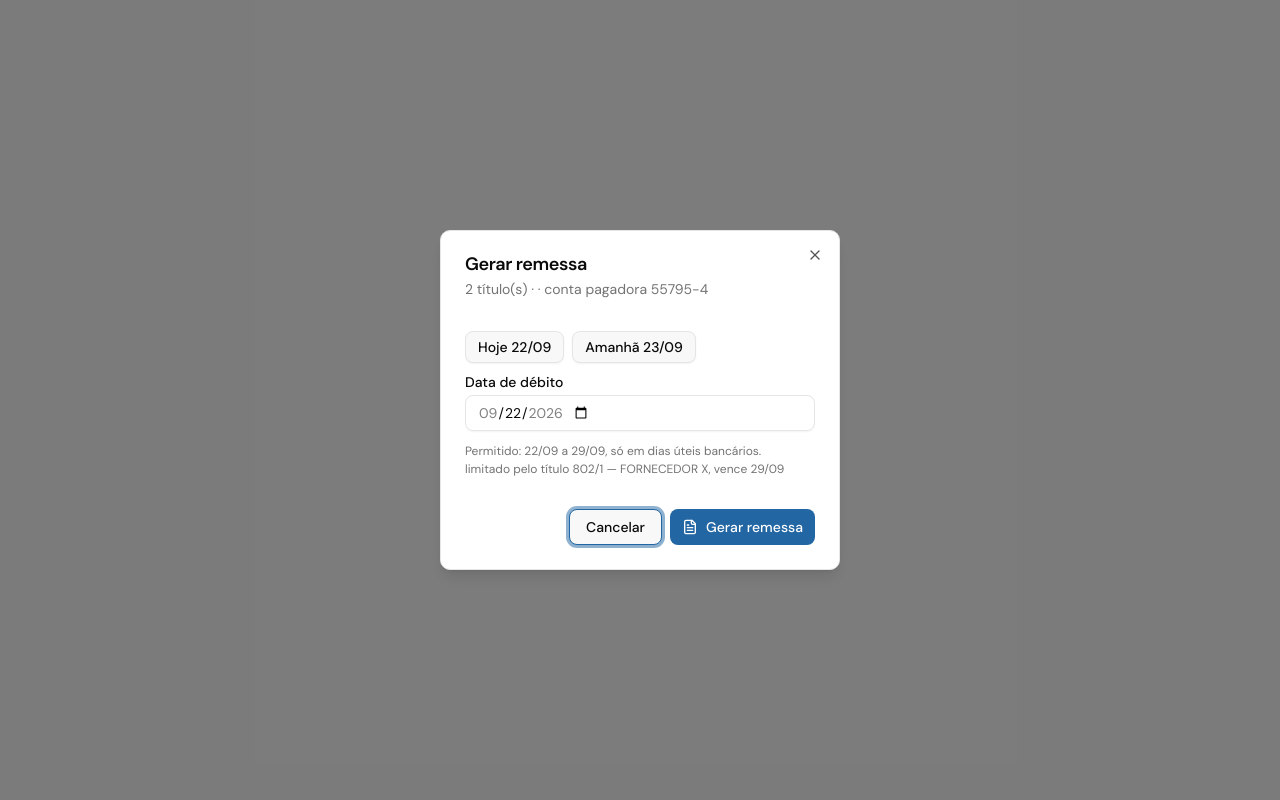
Scenario: GerarRemessaDialog › bloqueia dia não útil com erro inline e desabilita o envio
Expected: the text "Permitido: 22/09 a 29/09, só em dias úteis bancários." is shown, [465,443,761,459]
Type "2026-09-26" into the date field labelled "Data de débito" at (640, 413), box [465,395,815,431]
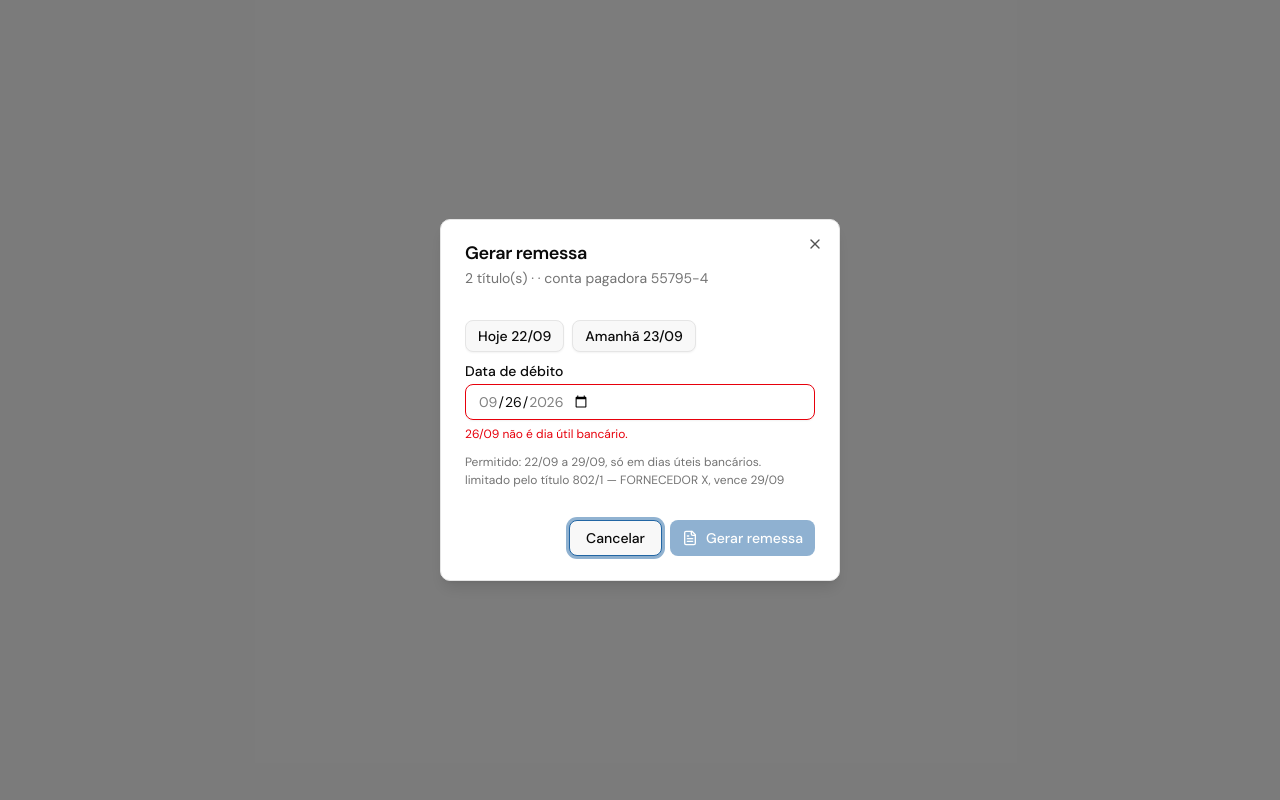
Now the message shows "26/09 não é dia útil bancário", box [465,426,628,442]
Now the button "Gerar remessa" is disabled, box [670,520,815,556]
